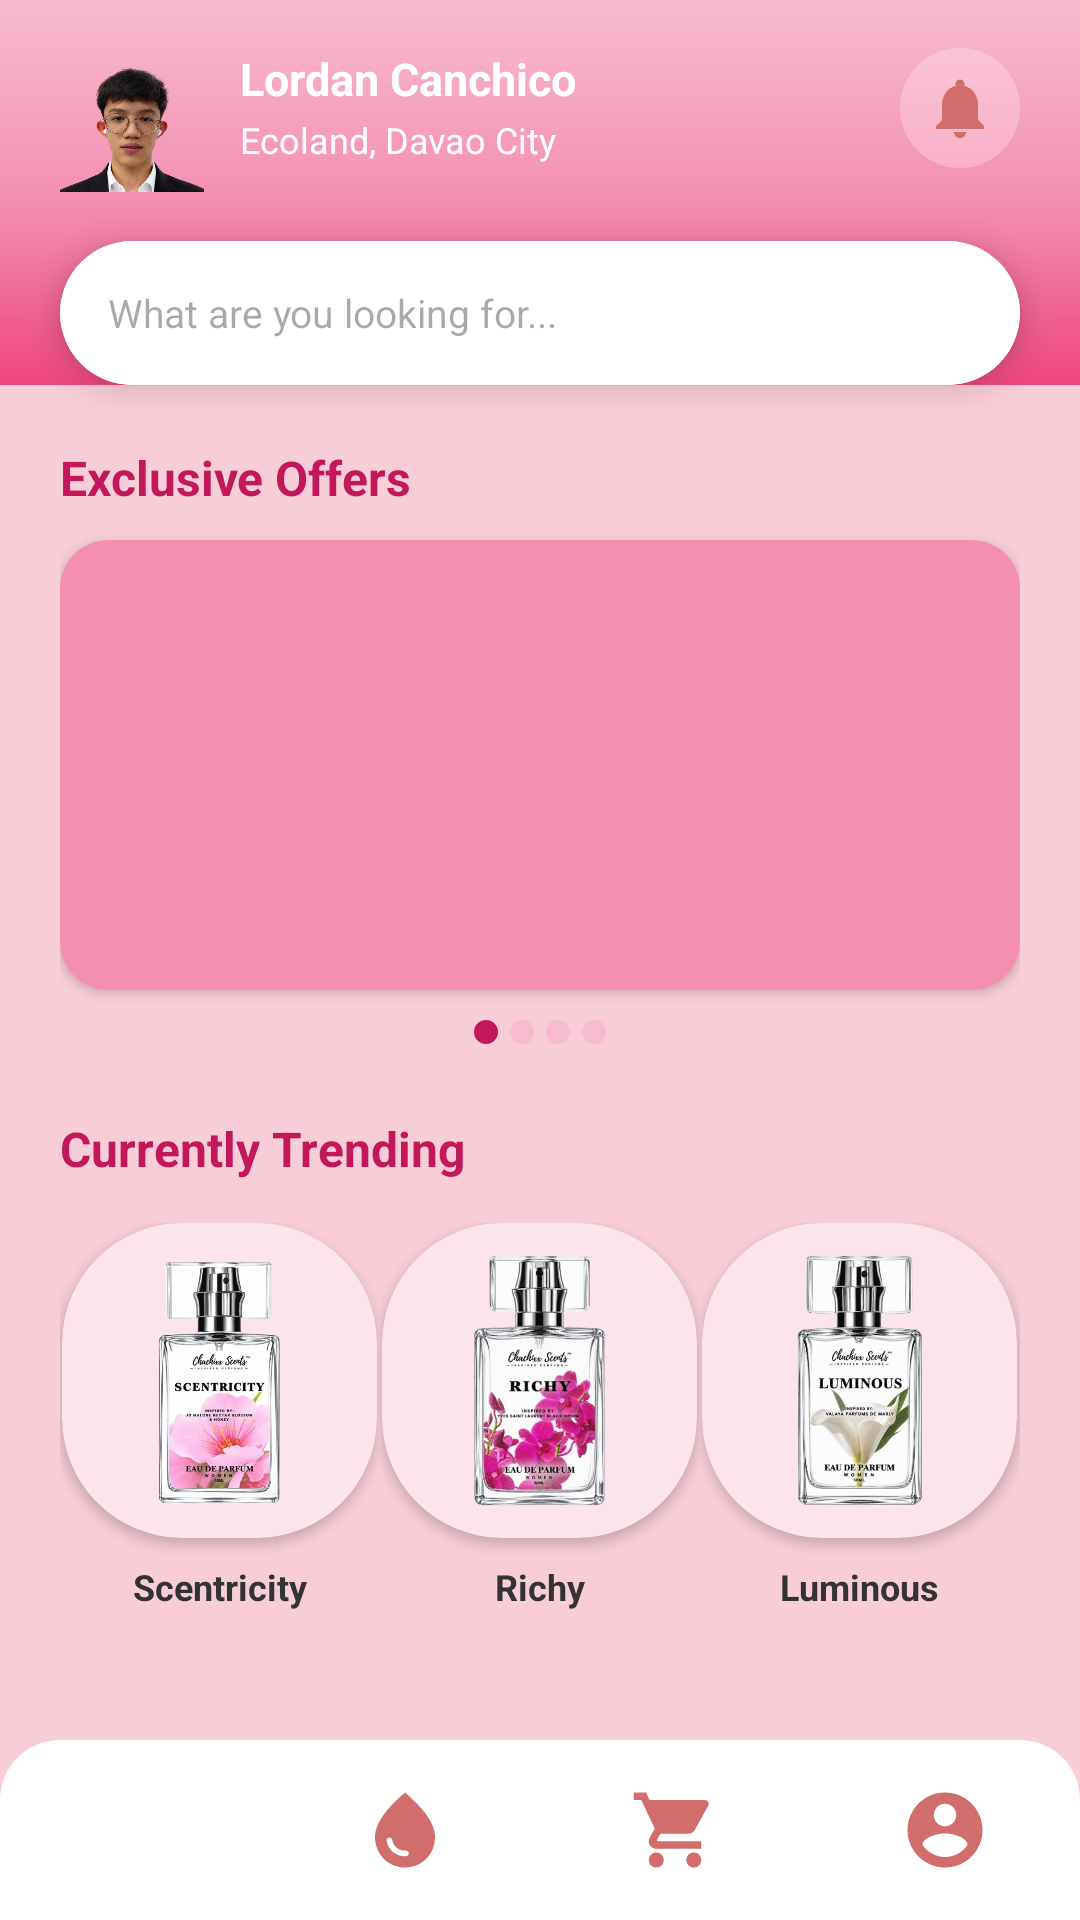

Point at icon controls on the screen. Image size 1080px x 1920px, points as (x,y).
Cart: (671,1830)
Notifications: (960,108)
Profile: (945,1830)
Profile photo: (132,120)
